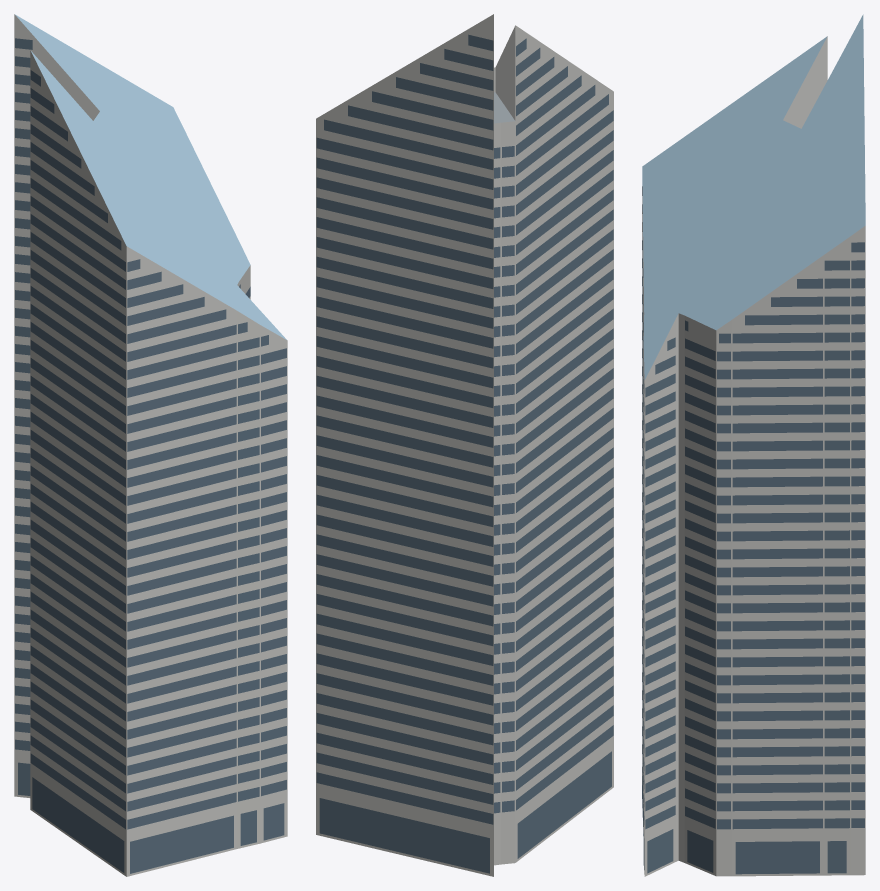
The model's file is chi-smurfit-stone.glb.
3 views of the same model, side by side, from view 1: azimuth 30°, elevation 25°; view 2: azimuth 150°, elevation 25°; view 3: azimuth 270°, elevation 25° (orthographic). The views are drawn at different scales.
Visible parts, largest first — view 1: Crain Communications Building; view 2: Crain Communications Building; view 3: Crain Communications Building.
Part boxes in pixels (x1=…): Crain Communications Building: x1=14, y1=14, x2=287, y2=876; Crain Communications Building: x1=316, y1=14, x2=613, y2=876; Crain Communications Building: x1=642, y1=14, x2=865, y2=876.
Size of the model in its own units: 39.34 by 177 by 45.98.
